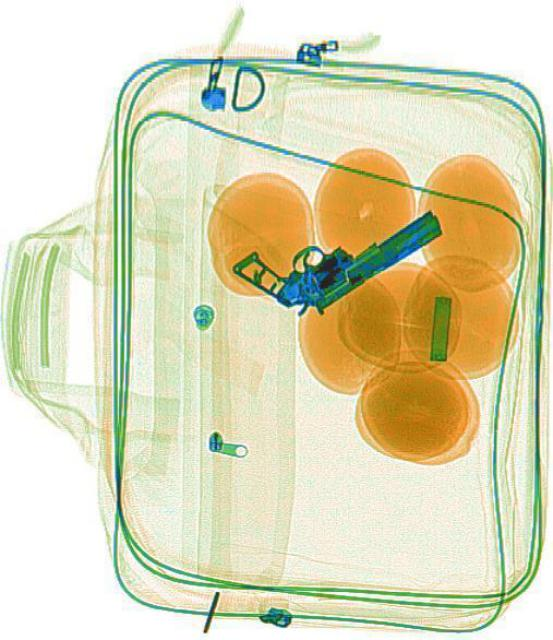Gun: (230, 156, 445, 342)
